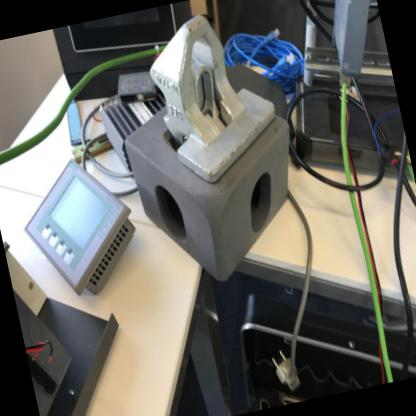CornerCasting: (118, 77, 314, 296)
Twistlock: (125, 0, 289, 193)
